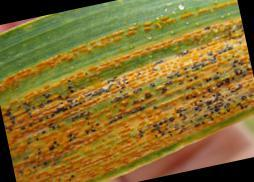Wheat: (1, 56, 243, 91), (2, 95, 246, 111), (93, 29, 243, 54), (5, 114, 219, 128), (10, 131, 196, 141), (14, 145, 146, 158), (145, 12, 240, 30), (17, 161, 105, 177), (197, 0, 236, 11), (245, 63, 252, 92), (113, 161, 124, 173), (149, 143, 164, 151), (74, 47, 90, 53), (224, 113, 233, 121), (250, 94, 254, 107)
